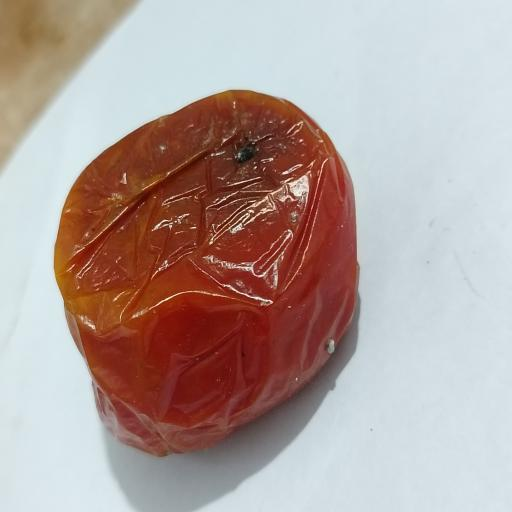spoiled: (55, 91, 357, 454)
